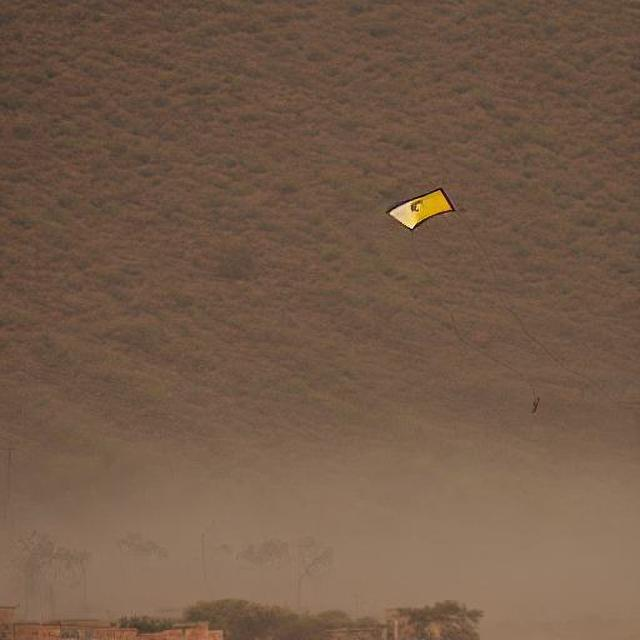floating object: (382, 185, 458, 232)
